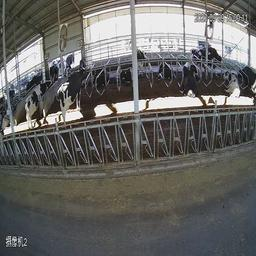cow: (52, 63, 88, 127), (18, 80, 51, 131), (177, 64, 200, 102), (237, 54, 255, 100), (153, 52, 173, 88), (221, 67, 241, 101), (202, 41, 217, 80), (186, 43, 204, 73), (116, 57, 131, 91), (92, 65, 108, 93), (136, 42, 148, 78)
